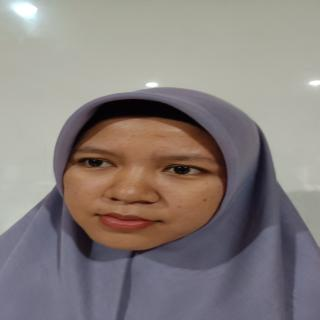Netral: (58, 112, 232, 255)
